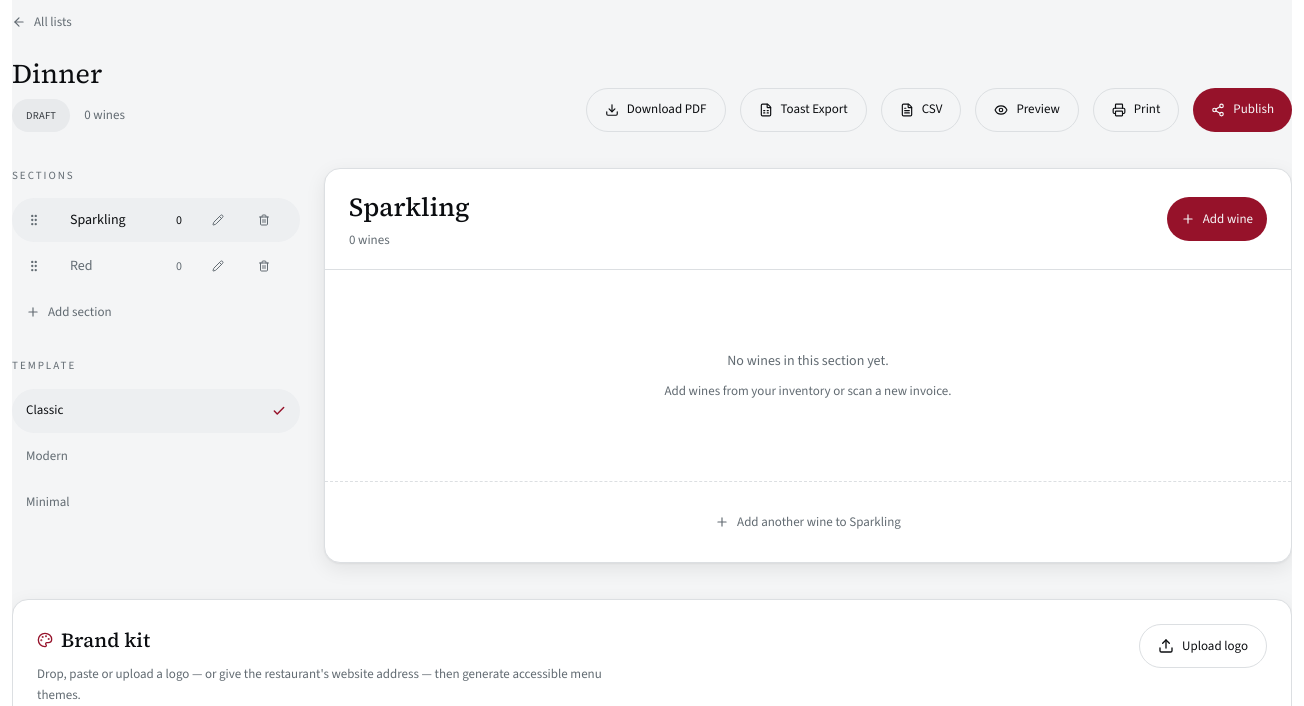
Test: shows the suggested price on the new row rather than a dash
The image size is (1304, 706).
Click the button "Add wine". click: click(1217, 219)
box: [1167,197,1267,241]
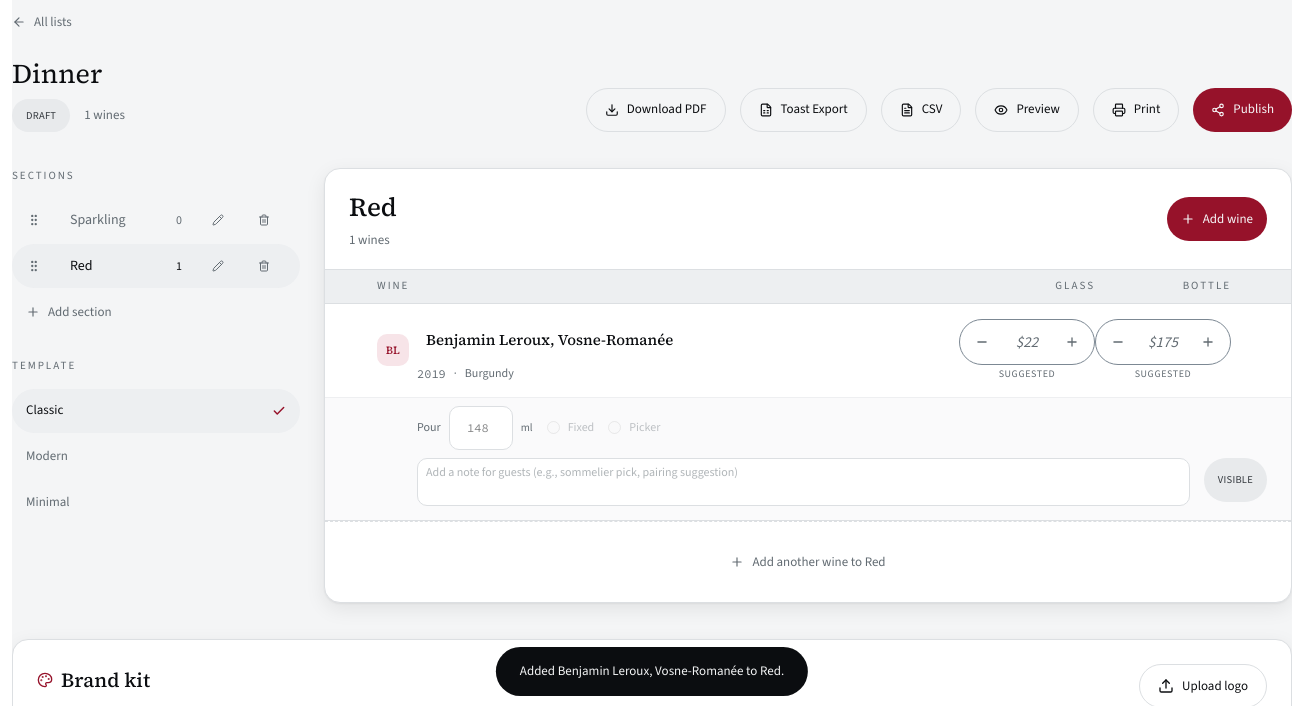
expect the button named "Edit bottle price for Vosne-Romanée" reads "$175": met, box [1140,320,1186,364]
expect the text "Suggested" is shown: met, box [999,367,1055,380]
